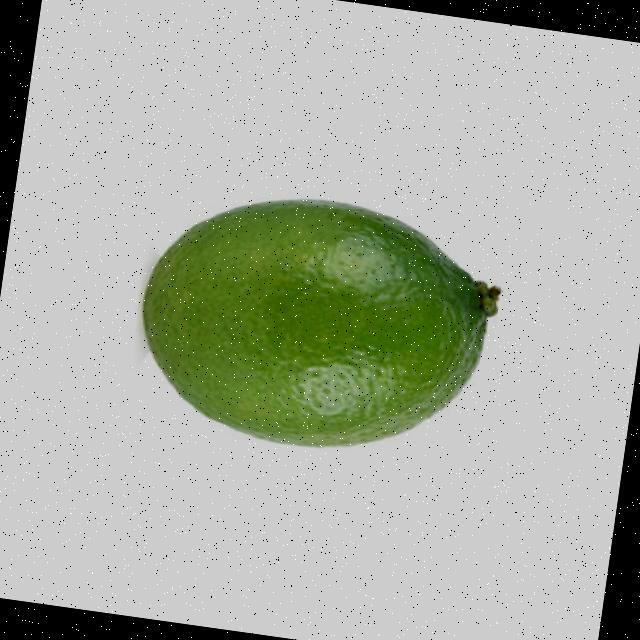Lemon: (127, 176, 512, 469)
